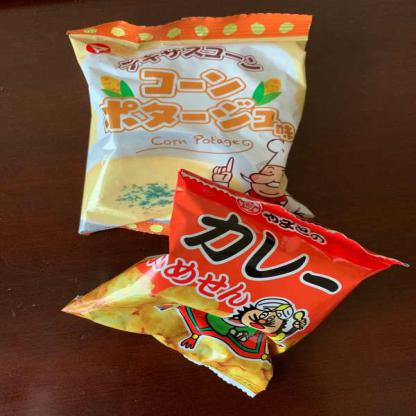potatochip: (56, 165, 413, 402)
